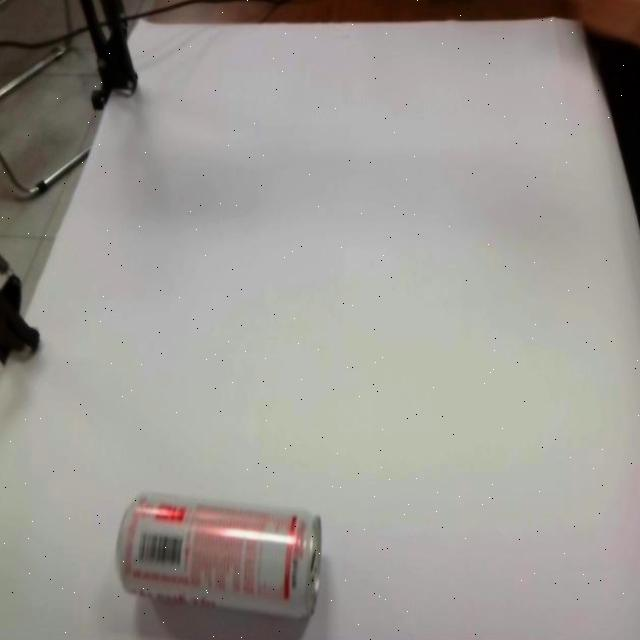debris: (114, 490, 323, 640)
